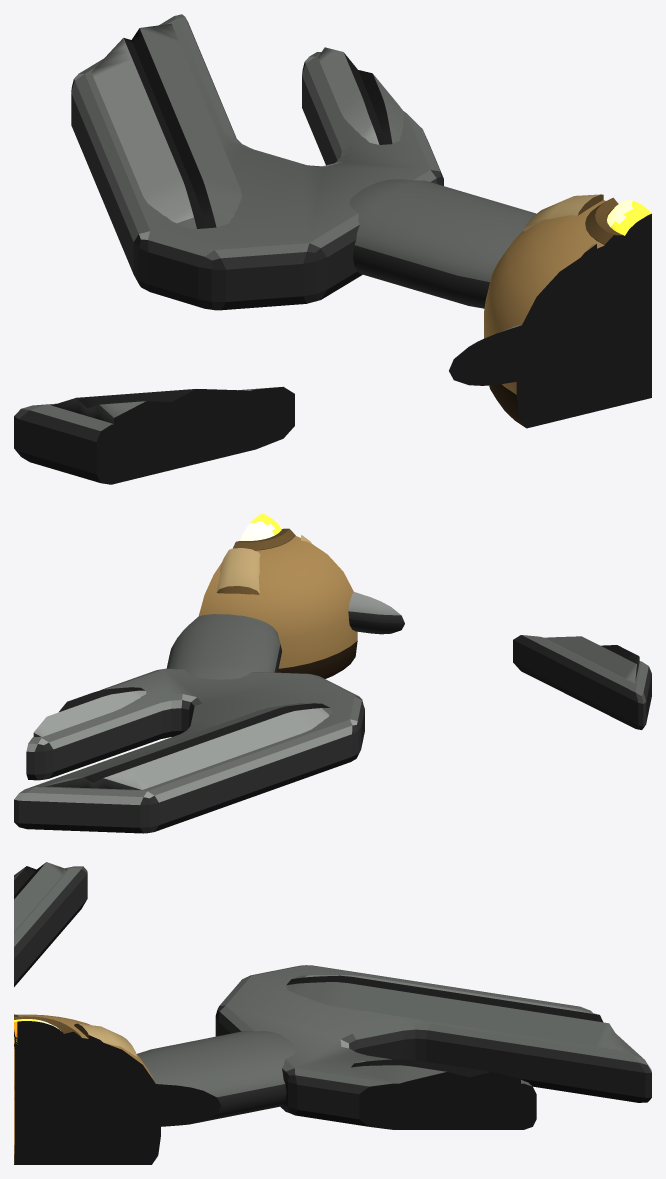
File: spin_claw_5.glb
3 views of the same model, one above another, from view 1: azimuth 30°, elevation 25°; view 2: azimuth 150°, elevation 25°; view 3: azimuth 270°, elevation 25° (orthographic). The views are drawn at different scales.
Visible parts, largest first — view 1: spin_claw_5_arm0_plate, spin_claw_5_hub_dome, spin_claw_5_arm0_ridge0, spin_claw_5_arm3_plate, spin_claw_5_arm0_rod, spin_claw_5_arm0_ridge1, spin_claw_5_arm3_ridge1, spin_claw_5_arm3_rod, spin_claw_5_hub_lens, spin_claw_5_hub_bezel, spin_claw_5_hub_rib0; view 2: spin_claw_5_arm0_plate, spin_claw_5_hub_dome, spin_claw_5_arm0_ridge0, spin_claw_5_arm3_plate, spin_claw_5_arm0_rod, spin_claw_5_arm0_ridge1, spin_claw_5_arm3_ridge1, spin_claw_5_hub_rib0, spin_claw_5_arm3_rod, spin_claw_5_hub_lens, spin_claw_5_hub_bezel; view 3: spin_claw_5_arm0_plate, spin_claw_5_hub_dome, spin_claw_5_arm0_rod, spin_claw_5_arm0_ridge0, spin_claw_5_arm3_plate, spin_claw_5_arm0_ridge1, spin_claw_5_arm3_ridge1, spin_claw_5_hub_lens, spin_claw_5_hub_rib0, spin_claw_5_hub_bezel.
Part boxes in pixels (bbox=[...]): spin_claw_5_arm0_plate: bbox=[71, 14, 443, 310]; spin_claw_5_hub_dome: bbox=[484, 200, 651, 428]; spin_claw_5_arm0_ridge0: bbox=[91, 23, 241, 228]; spin_claw_5_arm3_plate: bbox=[14, 386, 294, 484]; spin_claw_5_arm0_rod: bbox=[349, 179, 536, 308]; spin_claw_5_arm0_ridge1: bbox=[318, 47, 403, 144]; spin_claw_5_arm3_ridge1: bbox=[51, 389, 259, 434]; spin_claw_5_arm3_rod: bbox=[449, 313, 565, 385]; spin_claw_5_hub_lens: bbox=[607, 200, 651, 251]; spin_claw_5_hub_bezel: bbox=[585, 197, 651, 255]; spin_claw_5_hub_rib0: bbox=[524, 194, 603, 231]; spin_claw_5_arm0_plate: bbox=[14, 668, 364, 833]; spin_claw_5_hub_dome: bbox=[198, 536, 357, 678]; spin_claw_5_arm0_ridge0: bbox=[45, 701, 332, 789]; spin_claw_5_arm3_plate: bbox=[513, 635, 651, 729]; spin_claw_5_arm0_rod: bbox=[166, 614, 281, 679]; spin_claw_5_arm0_ridge1: bbox=[33, 687, 146, 736]; spin_claw_5_arm3_ridge1: bbox=[545, 636, 639, 683]; spin_claw_5_hub_rib0: bbox=[216, 548, 260, 594]; spin_claw_5_arm3_rod: bbox=[348, 592, 404, 634]; spin_claw_5_hub_lens: bbox=[240, 513, 281, 540]; spin_claw_5_hub_bezel: bbox=[233, 528, 295, 550]; spin_claw_5_arm0_plate: bbox=[215, 965, 651, 1129]; spin_claw_5_hub_dome: bbox=[14, 1014, 160, 1164]; spin_claw_5_arm0_rod: bbox=[117, 1031, 295, 1128]; spin_claw_5_arm0_ridge0: bbox=[286, 975, 626, 1051]; spin_claw_5_arm3_plate: bbox=[14, 866, 87, 986]; spin_claw_5_arm0_ridge1: bbox=[351, 1059, 520, 1091]; spin_claw_5_arm3_ridge1: bbox=[14, 862, 67, 930]; spin_claw_5_hub_lens: bbox=[14, 1019, 65, 1048]; spin_claw_5_hub_rib0: bbox=[74, 1023, 136, 1056]; spin_claw_5_hub_bezel: bbox=[14, 1016, 81, 1046].
Bounding box in the file's own units: 20.58 × 6.19 × 24.84.
